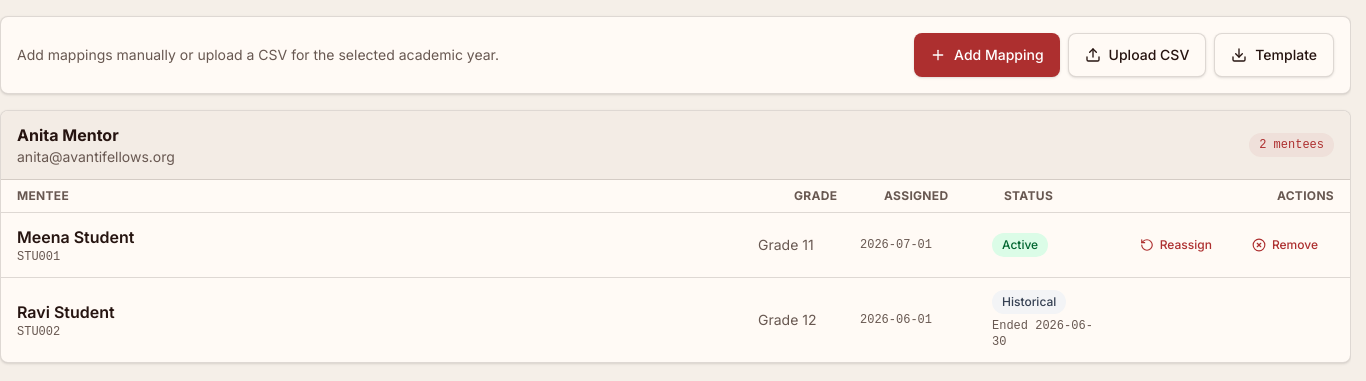
it: AcademicMentorshipManager › confirms removal, ends active rows only, and refreshes the table
Click the button "Remove" at x=1285, y=245, box [1236,227,1334,263]
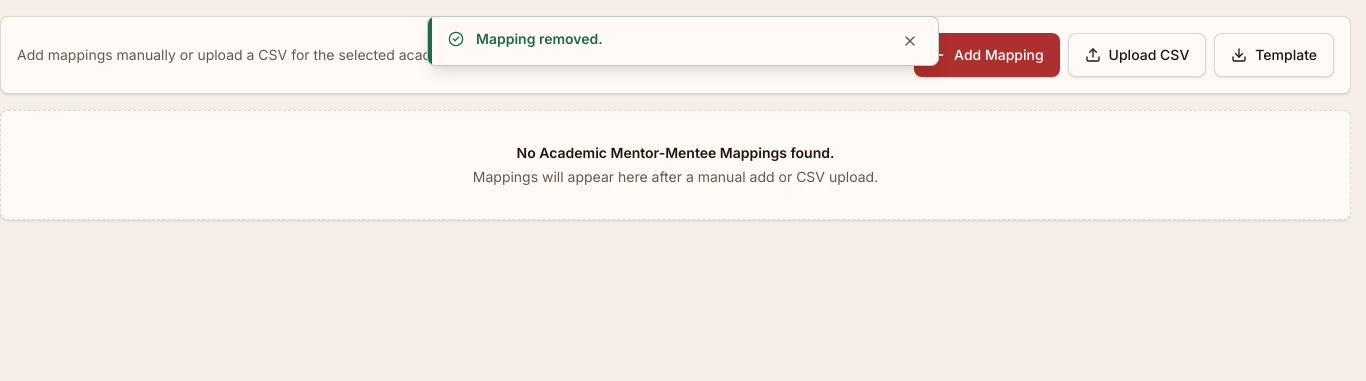
Expected: the text "Mapping removed." is shown, [476,30,603,47]
Expected: the text "No Academic Mentor-Mentee Mappings found." is shown, [517,144,834,161]
